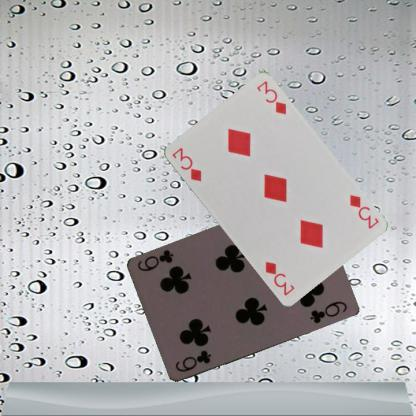3d: (169, 144, 203, 182), (346, 192, 380, 230)
6c: (172, 348, 213, 374)
